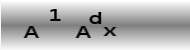1: (47, 8, 62, 22)
A: (23, 25, 40, 40), (75, 25, 92, 38)
d: (88, 10, 102, 25)
x: (103, 25, 117, 37)
